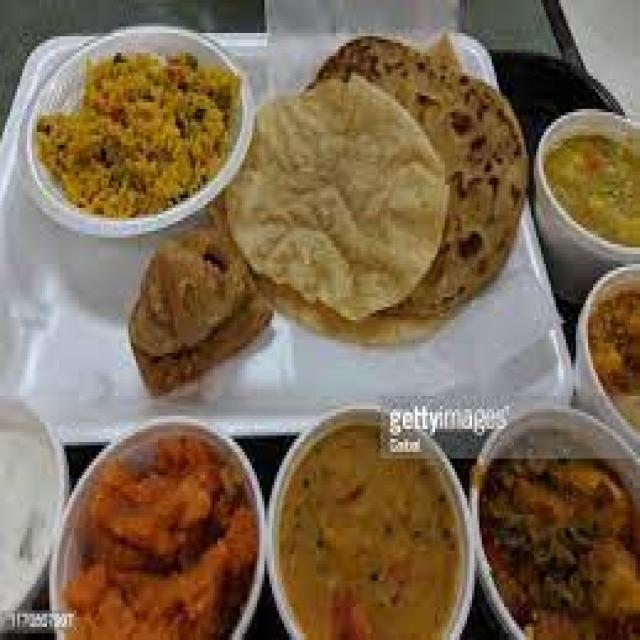dal: (275, 418, 472, 640)
papad: (237, 47, 531, 315)
raita: (0, 413, 62, 608)
roti: (253, 32, 542, 305), (323, 33, 496, 178)
sweet: (535, 108, 638, 257)
veg-fry: (36, 34, 231, 225), (469, 433, 638, 640)
